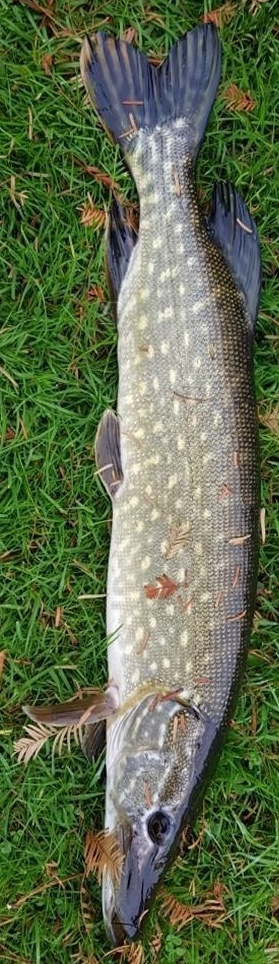Esox lucius: (20, 20, 259, 944)
